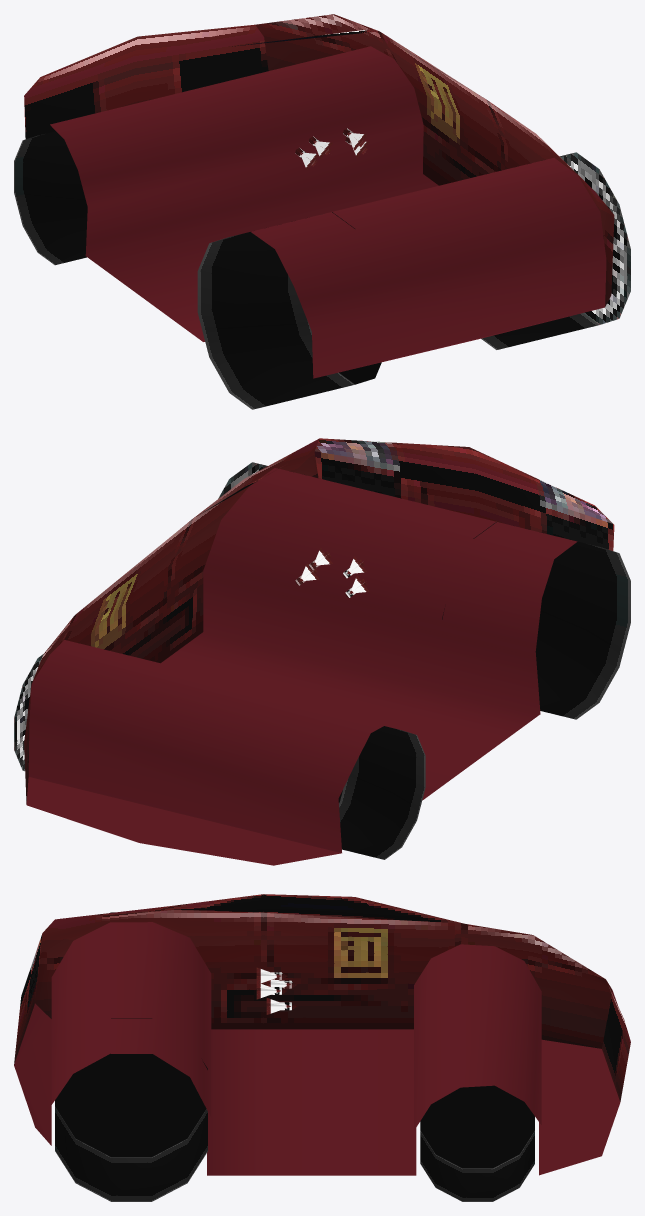
The model's file is ps2_save-icons_dtcarnage-savegame.glb.
The picture shows the model from 3 angles, top to bottom: view 1: azimuth 30°, elevation 25°; view 2: azimuth 150°, elevation 25°; view 3: azimuth 270°, elevation 25°; orthographic projection. The views are drawn at different scales.
Parts seen in each view (by area): view 1: static.ico; view 2: static.ico; view 3: static.ico.
Part boxes in pixels (x1,y1,x2,y2): static.ico: (14,14,630,409); static.ico: (14,438,630,865); static.ico: (14,894,630,1201).
Bounding box in the file's own units: 2.7 × 1.66 × 4.67.
Materials: 1 (1 with a texture image).
